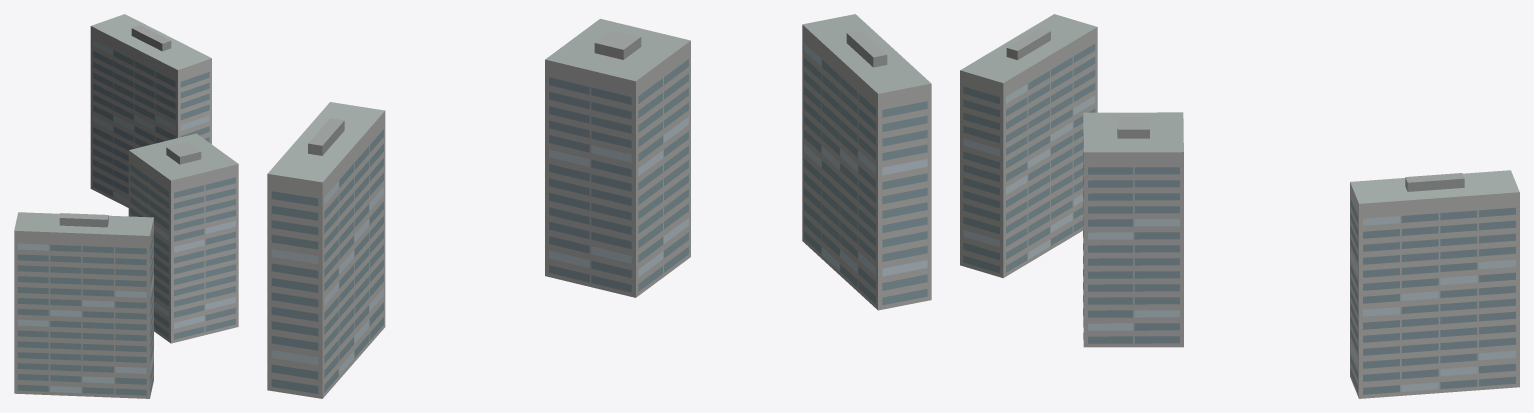
File: apt-a15003001.glb
The picture shows the model from 3 angles, left to right: view 1: azimuth 30°, elevation 25°; view 2: azimuth 150°, elevation 25°; view 3: azimuth 270°, elevation 25°; orthographic projection. The views are drawn at different scales.
Parts seen in each view (by area): view 1: apt-a15003001; view 2: apt-a15003001; view 3: apt-a15003001.
Boxes of the visible parts, left/top/right/bottom form: apt-a15003001: left=14, top=14, right=238, bottom=398; apt-a15003001: left=267, top=14, right=931, bottom=398; apt-a15003001: left=960, top=14, right=1519, bottom=398.
Size of the model in its own units: 91.73 by 46 by 114.
